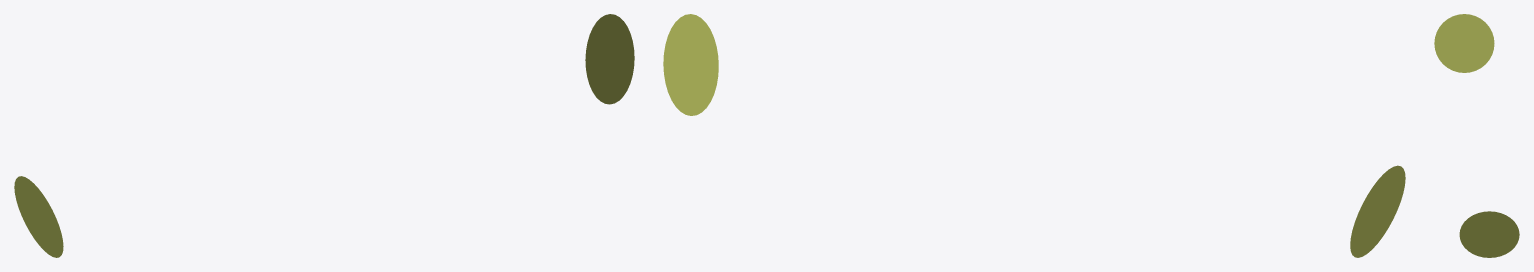
Rendered from lms-coat-of-arms.dae.
The picture shows the model from 3 angles, left to right: view 1: azimuth 30°, elevation 25°; view 2: azimuth 150°, elevation 25°; view 3: azimuth 270°, elevation 25°; orthographic projection. The views are drawn at different scales.
Visible parts, largest first — view 1: Cylinder_012, Cylinder_013; view 2: Cylinder_012, Cylinder_013; view 3: Cylinder_013, Cylinder_012.
Part boxes in pixels (x1,y1,x2,y2): Cylinder_012: [585, 14, 634, 104]; Cylinder_013: [14, 176, 63, 257]; Cylinder_012: [663, 14, 718, 115]; Cylinder_013: [1350, 165, 1405, 257]; Cylinder_013: [1434, 14, 1494, 72]; Cylinder_012: [1459, 211, 1519, 257].
Bounding box in the file's own units: 2.18 × 0.3969 × 0.2715.
